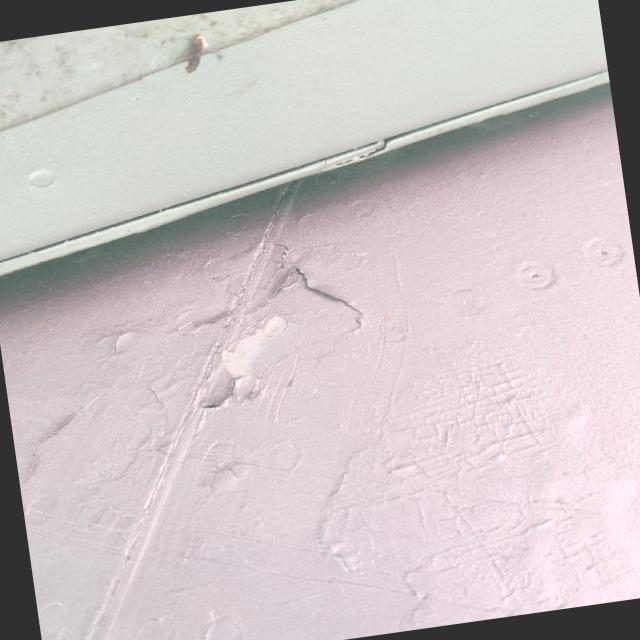paint-off: (168, 247, 382, 423)
